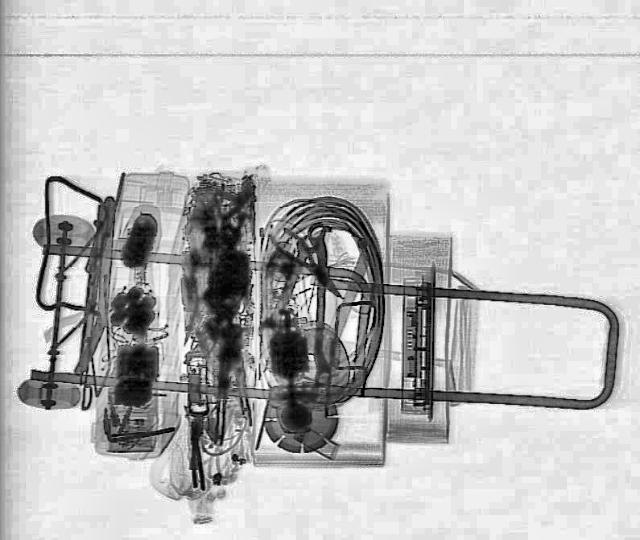Pliers: (262, 220, 354, 306)
Wrench: (253, 233, 320, 339), (304, 221, 330, 382)
